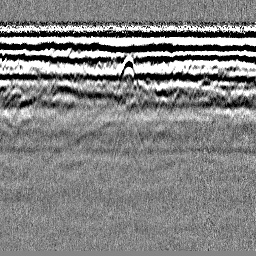cavity: (118, 55, 139, 87)
